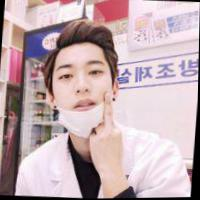WRONG: (50, 55, 124, 135)
